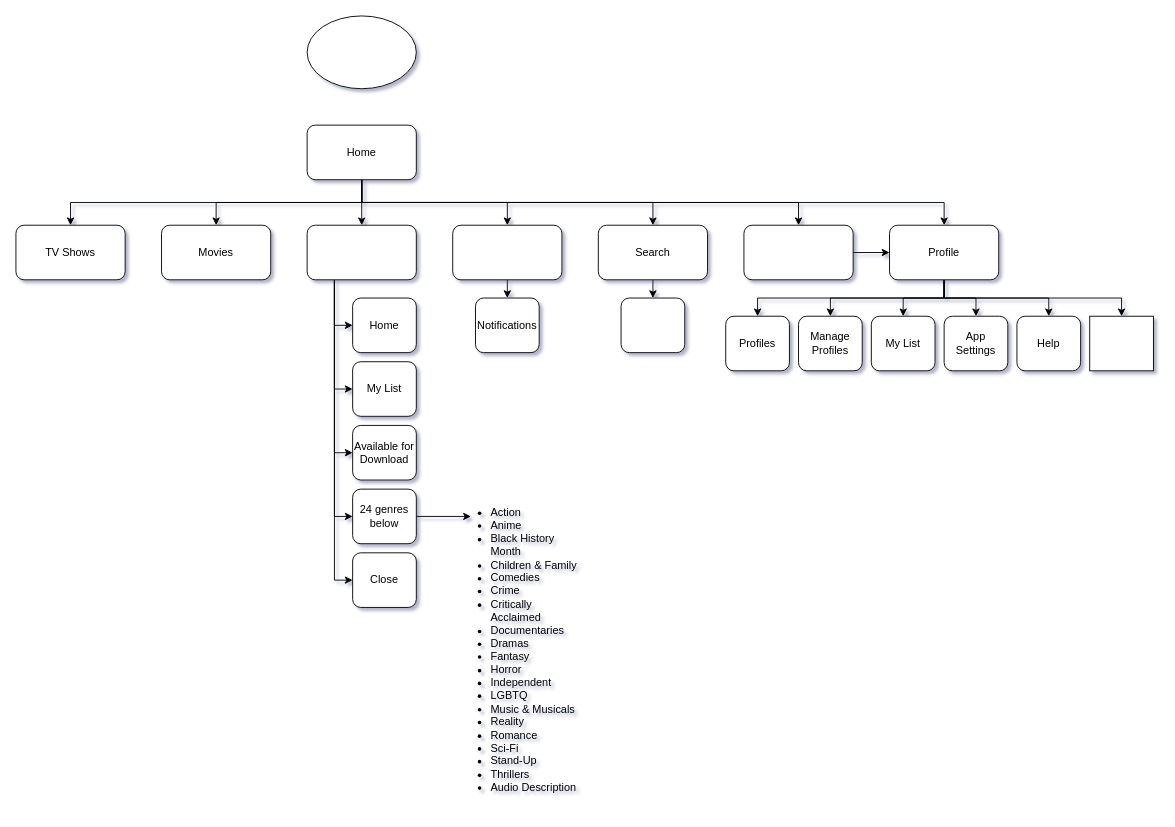
Image size: 1175x827. Some labels were removed from this diagram. Each missing label, with the centre of its shape:
Categories: point (361, 252)
Coming Soon: point (507, 252)
Downloads: point (798, 252)
Netflix App: point (361, 52)
Search Engine: point (652, 325)
Sign Out: point (1121, 343)
